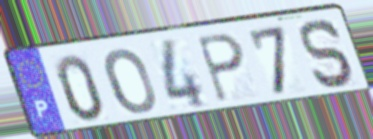0: (54, 51, 107, 125)
4: (162, 37, 209, 111)
7: (246, 22, 293, 98)
O: (103, 46, 158, 117)
P: (193, 31, 247, 106)
S: (298, 17, 359, 90)
